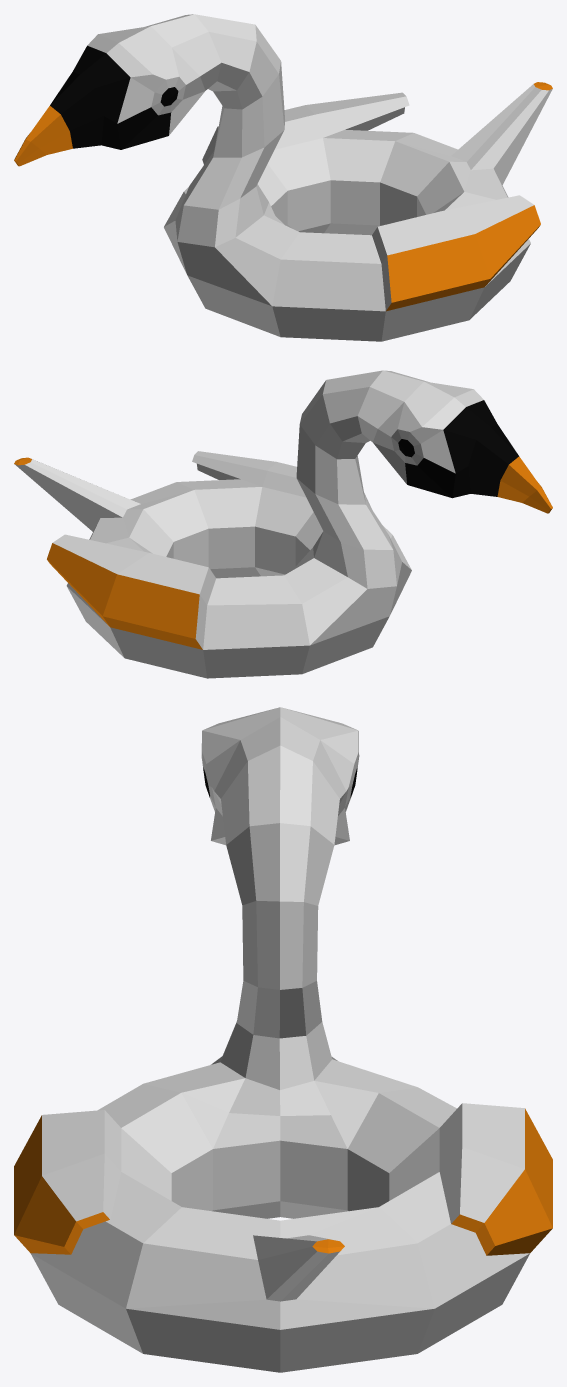
File: VehiculoCisne.fbx
3 views of the same model, one above another, from view 1: azimuth 30°, elevation 25°; view 2: azimuth 150°, elevation 25°; view 3: azimuth 270°, elevation 25° (orthographic). The views are drawn at different scales.
Visible parts, largest first — view 1: Vehiculo4; view 2: Vehiculo4; view 3: Vehiculo4.
Part boxes in pixels (<box>): Vehiculo4: <box>14,14,552,341</box>; Vehiculo4: <box>14,370,552,678</box>; Vehiculo4: <box>14,707,552,1372</box>.
Bounding box in the file's own units: 572 × 302 × 338.
